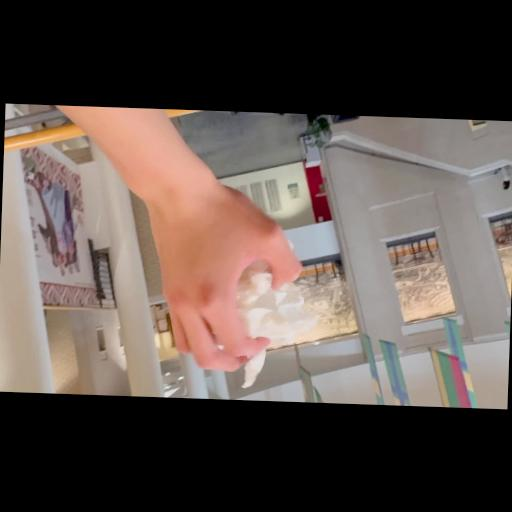napkin: (228, 234, 312, 390)
